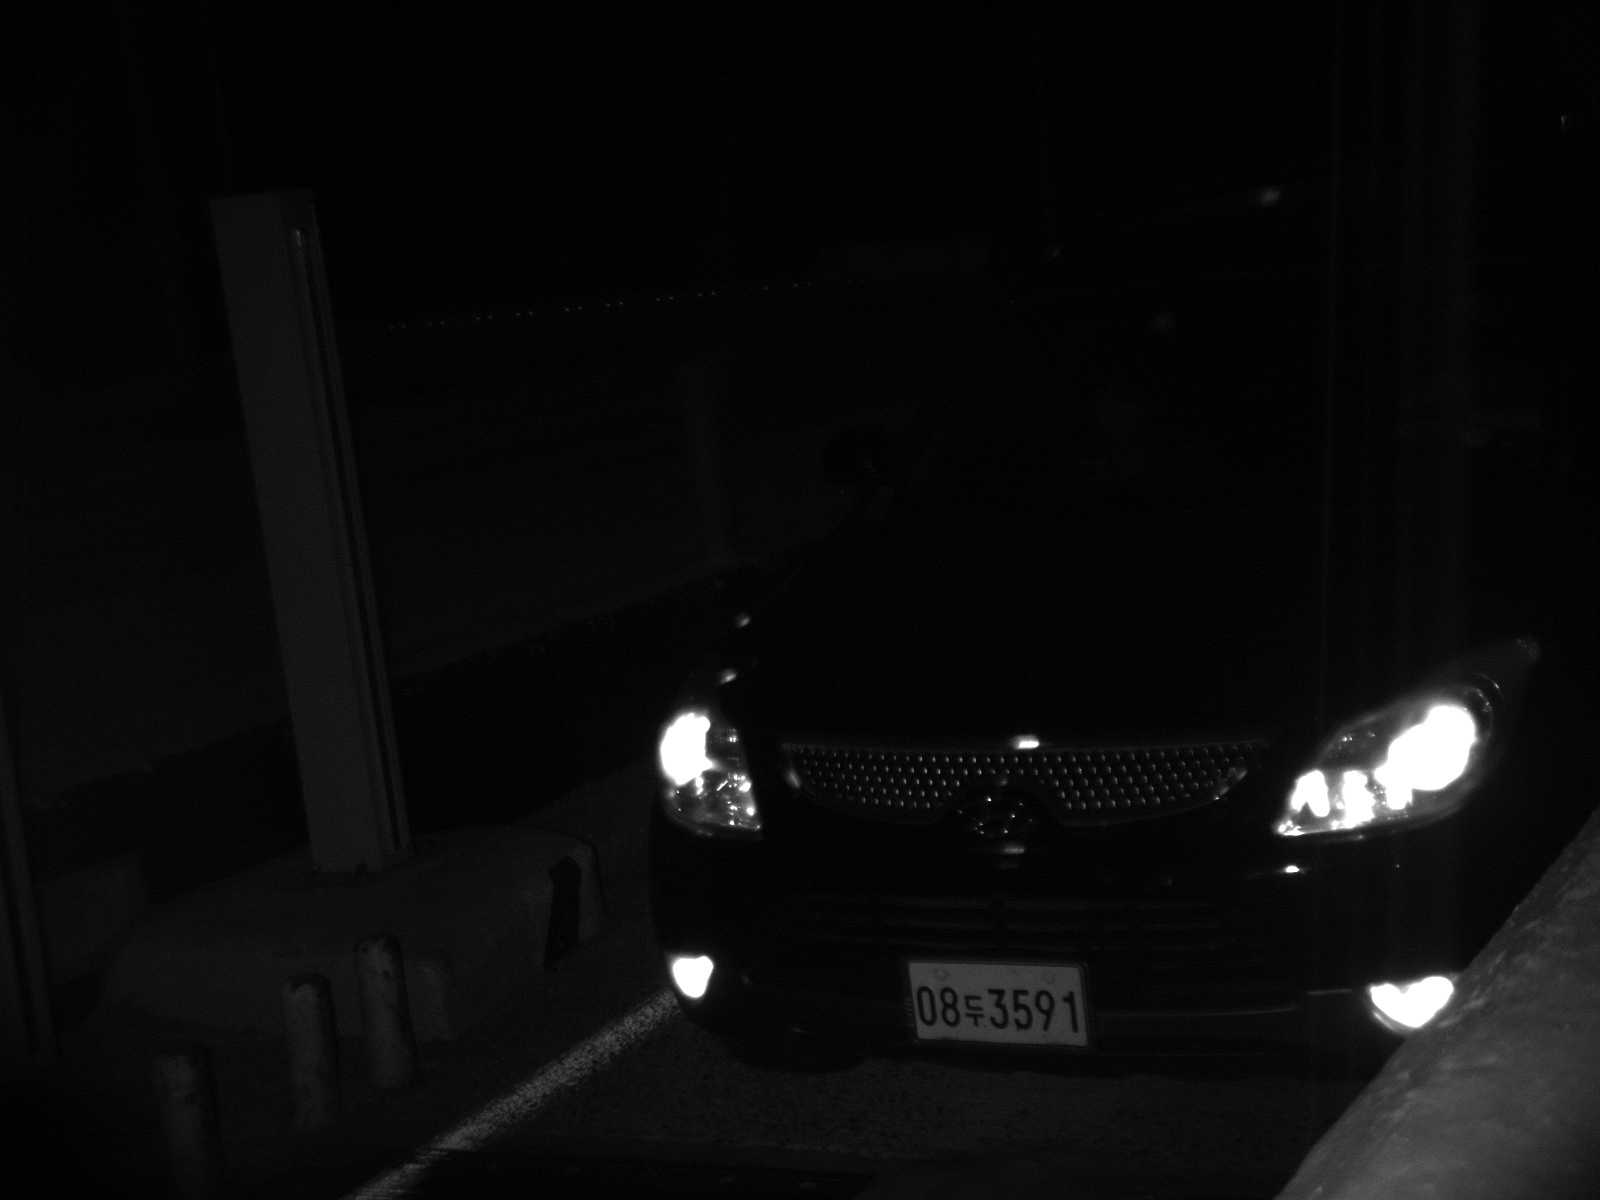car: (652, 263, 1600, 1073)
plate: (899, 955, 1092, 1052)
